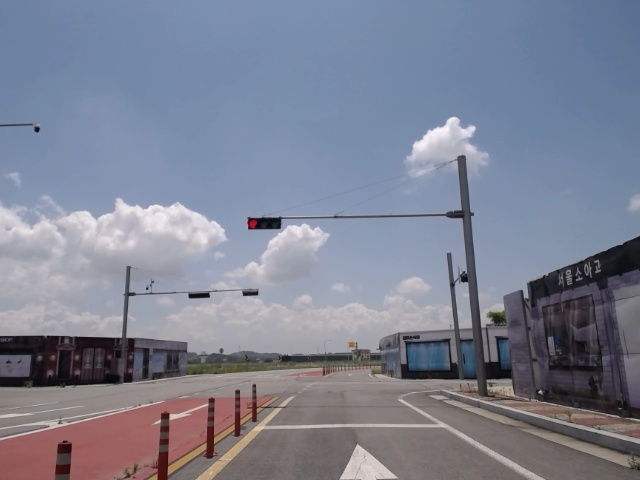red_3: (243, 215, 283, 229)
